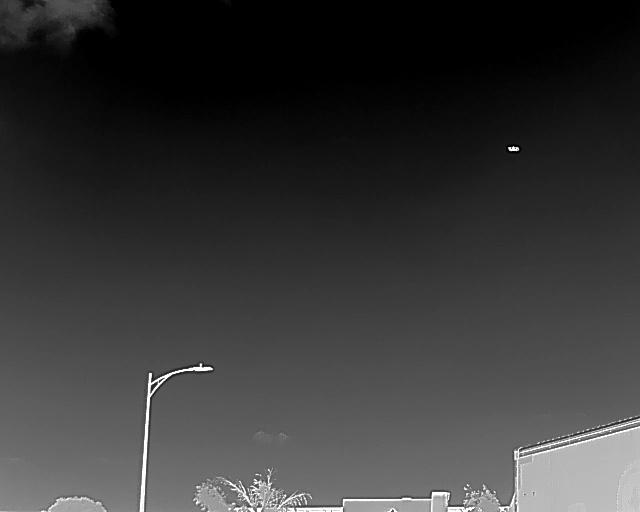fpv-drone: (507, 145, 520, 152)
